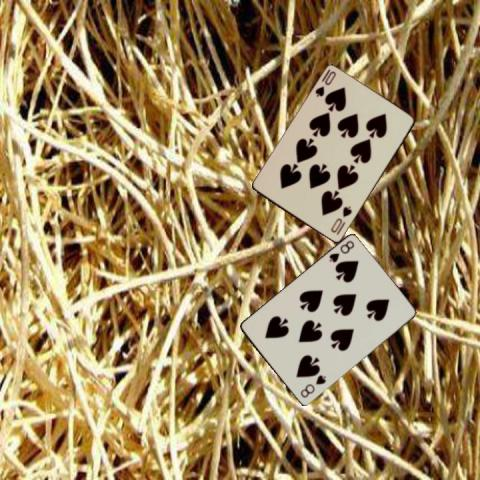10s: (328, 204, 353, 235), (312, 68, 337, 99)
8s: (298, 372, 328, 399), (326, 238, 356, 265)
